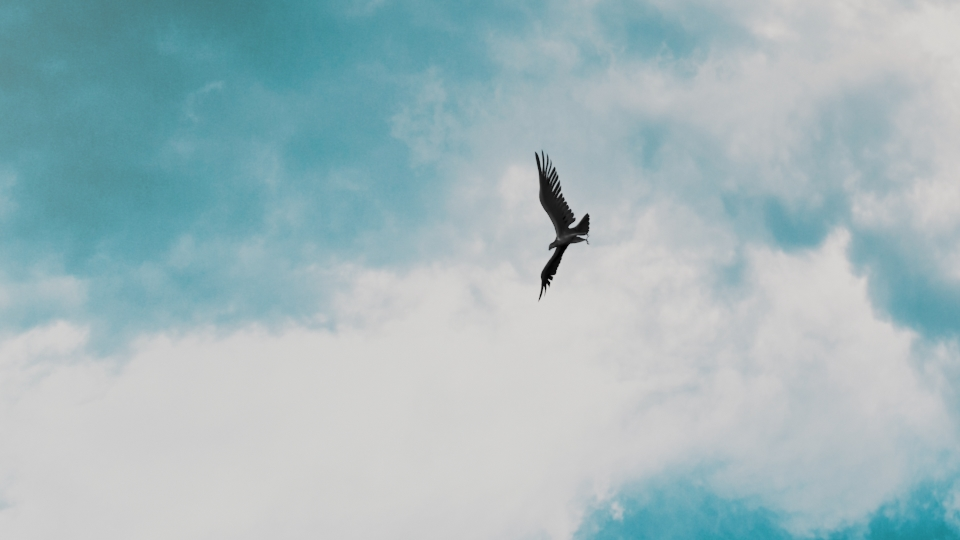bird: (531, 149, 593, 303)
